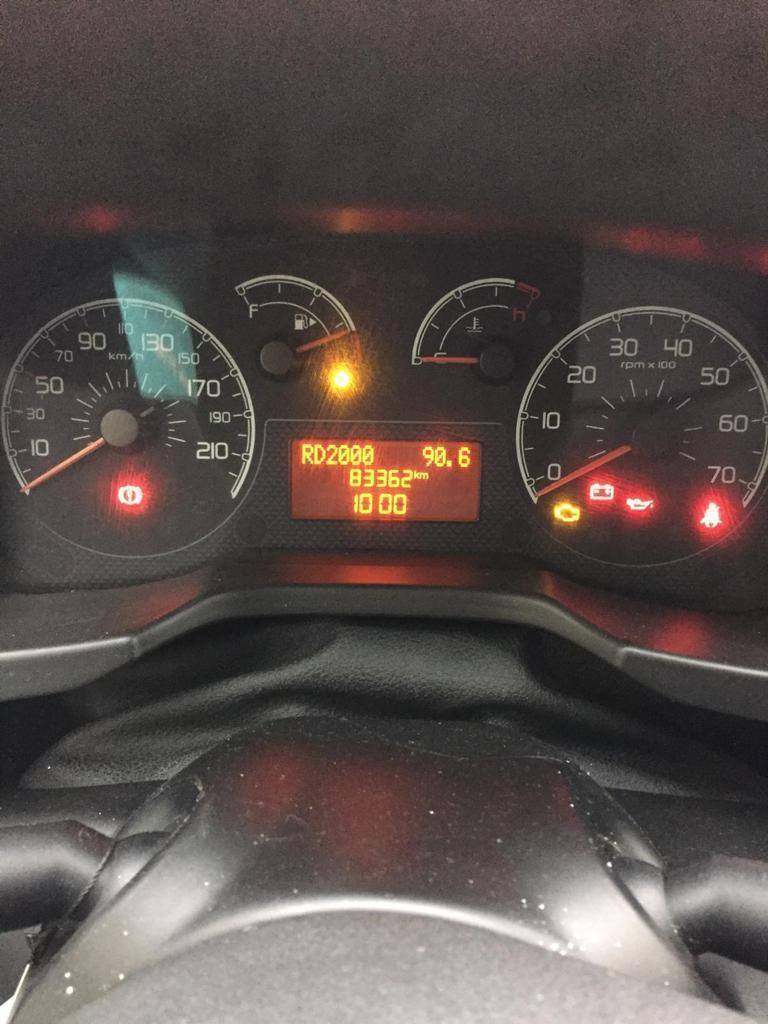,: (445, 459, 453, 468)
0: (358, 492, 372, 514), (379, 492, 392, 515), (393, 493, 406, 514), (362, 444, 374, 464), (434, 445, 445, 466), (338, 444, 349, 464), (351, 444, 361, 464)
1: (352, 491, 358, 514)
2: (401, 468, 413, 488), (326, 443, 337, 464)
3: (376, 468, 387, 488), (362, 468, 373, 488)
6: (457, 446, 470, 468), (388, 467, 399, 488)
8: (349, 466, 361, 486)
9: (422, 445, 433, 466)
X: (313, 442, 326, 466), (301, 442, 312, 466), (420, 471, 430, 480), (413, 469, 419, 480)
odometer: (287, 435, 483, 524)
